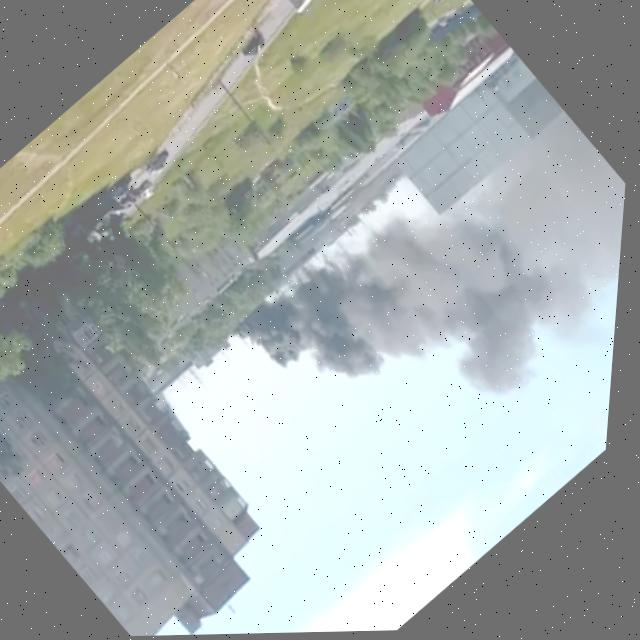Smoke: (213, 71, 635, 565)
